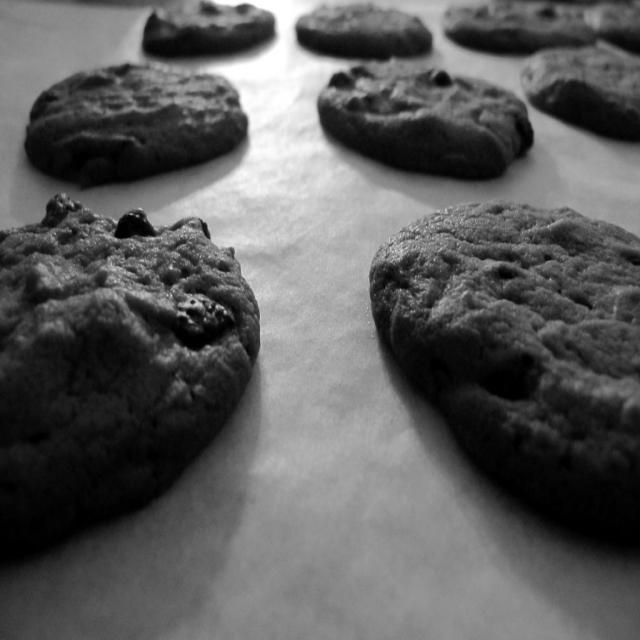Cookie: (0, 191, 259, 547), (369, 197, 640, 486), (25, 60, 249, 186), (317, 54, 535, 182), (519, 39, 639, 146), (439, 0, 596, 55), (295, 0, 435, 57), (143, 0, 275, 58), (581, 0, 639, 42)
